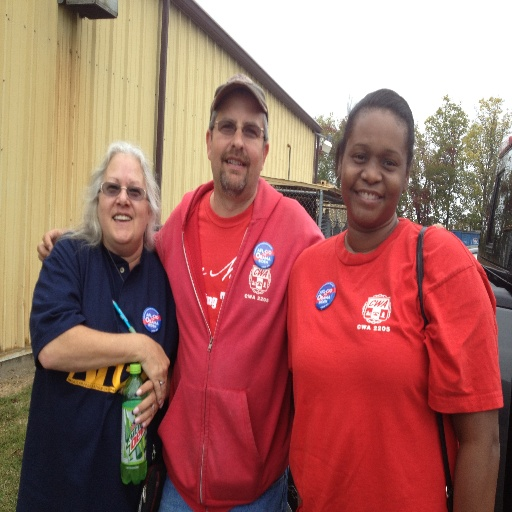hand: (118, 316, 173, 430), (131, 380, 166, 430), (36, 225, 65, 263)
